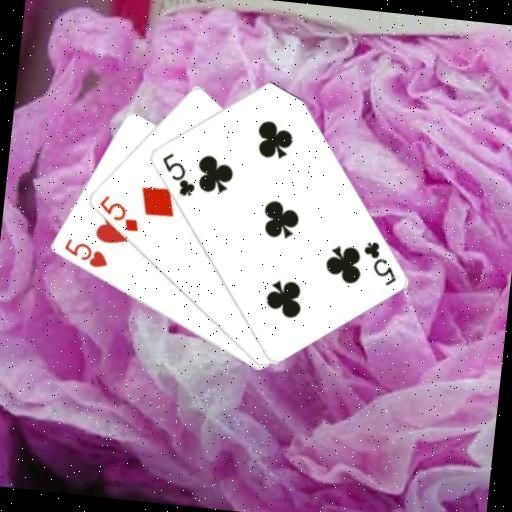5C: (356, 237, 401, 288), (155, 149, 200, 199)
5D: (93, 192, 143, 235)
5H: (59, 234, 112, 271)
